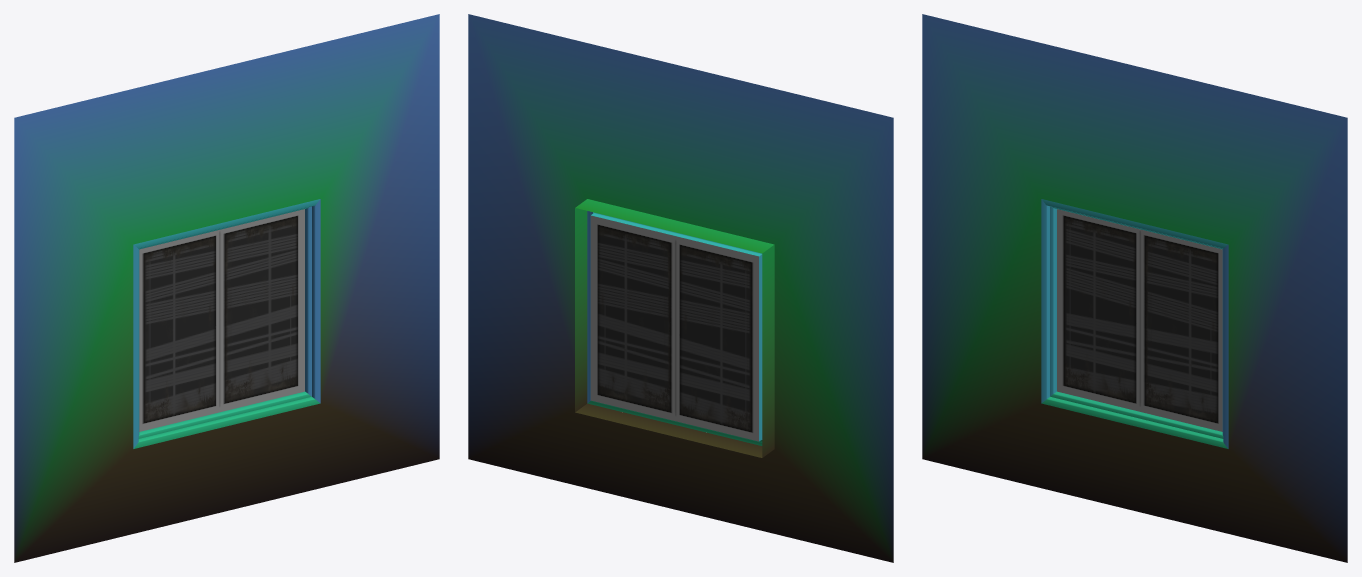
The model's file is Wal_lWindow_Exterior.fbx.
3 renders of one model, left to right at view 1: azimuth 30°, elevation 25°; view 2: azimuth 150°, elevation 25°; view 3: azimuth 330°, elevation 25°, orthographic.
Visible parts, largest first — view 1: Wal_lWindow_Exterior; view 2: Wal_lWindow_Exterior; view 3: Wal_lWindow_Exterior.
Boxes of the visible parts, x1,y1,x2,y2 form: Wal_lWindow_Exterior: (14,14,439,562); Wal_lWindow_Exterior: (468,14,893,562); Wal_lWindow_Exterior: (922,14,1347,562).
Bounding box in the file's own units: 157 × 157 × 7.88.
